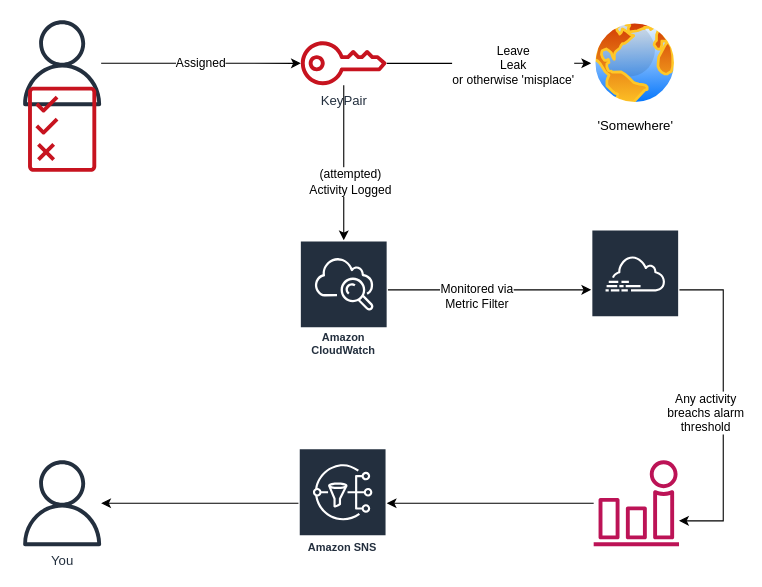
Some shapes in this 762 by 587 pixel diagram are drawn without their labels. The shapes that lost their labels are listed below. From the top down, each one's box as (x1, y1, x2, y2) in pixels, then its label:
(28, 86, 96, 172): DENY all
(590, 228, 679, 350): AWS CloudTrail
(593, 460, 679, 546): Alarm
